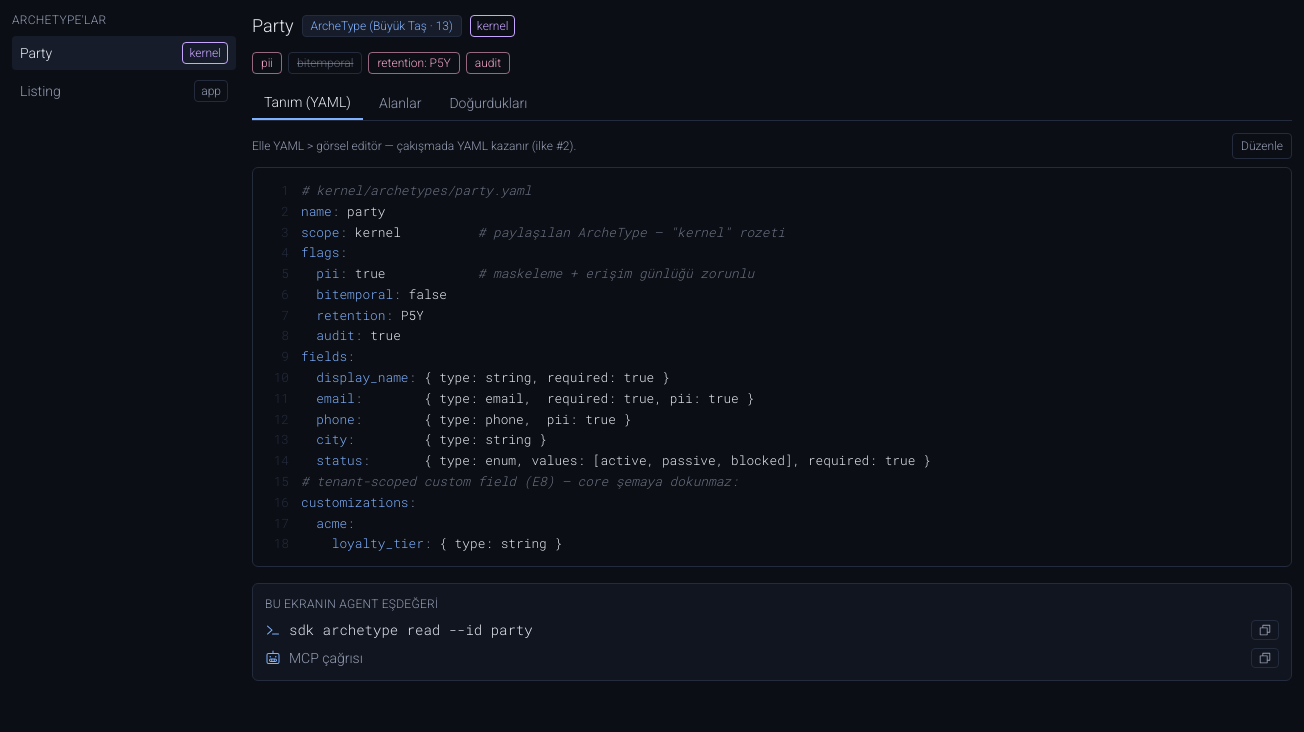
Scenario: ArcheType Studio — Custom Field ekleme (§4-b) › pii bayrağı seçilmeden eklenemez; eklenince tenant-custom rozeti taşır
The image size is (1304, 732).
Click the tab "Alanlar" at (400, 103), box [367,86,433,120]
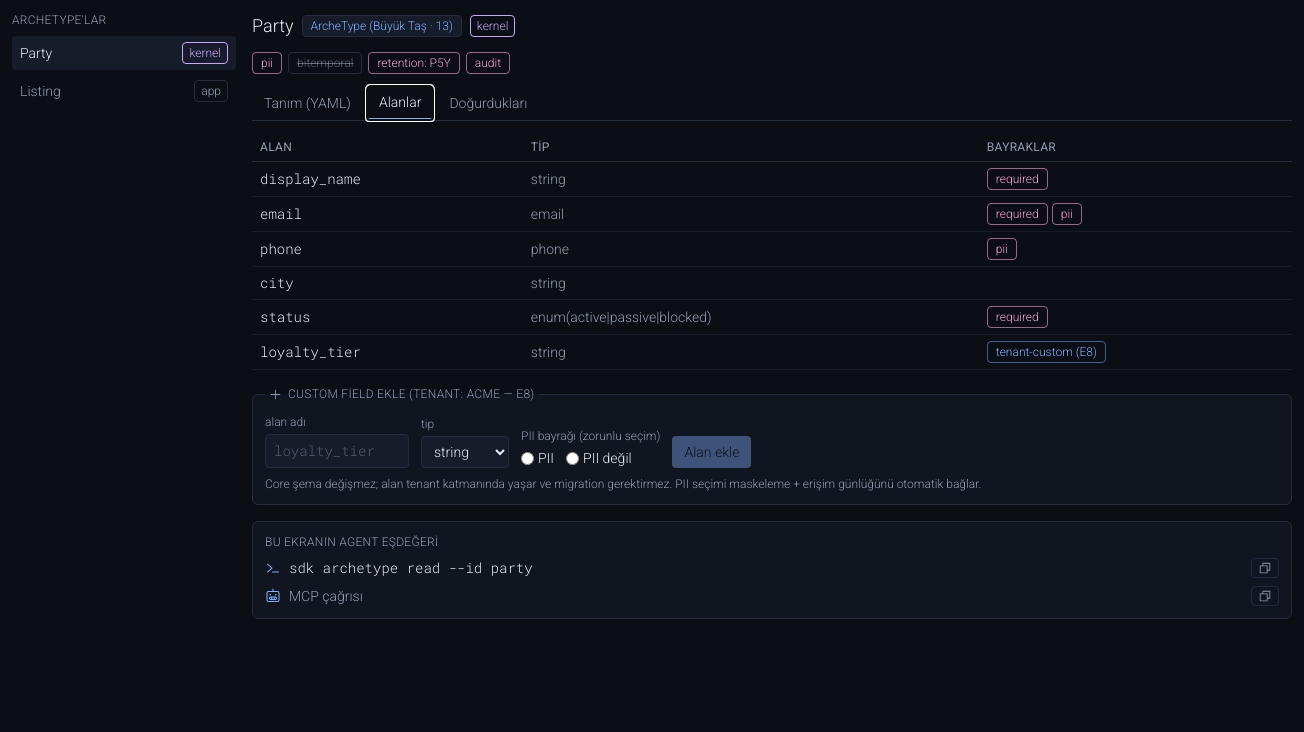
Type "segment" into the field labelled "alan adı" at (337, 451), box [265,434,409,468]
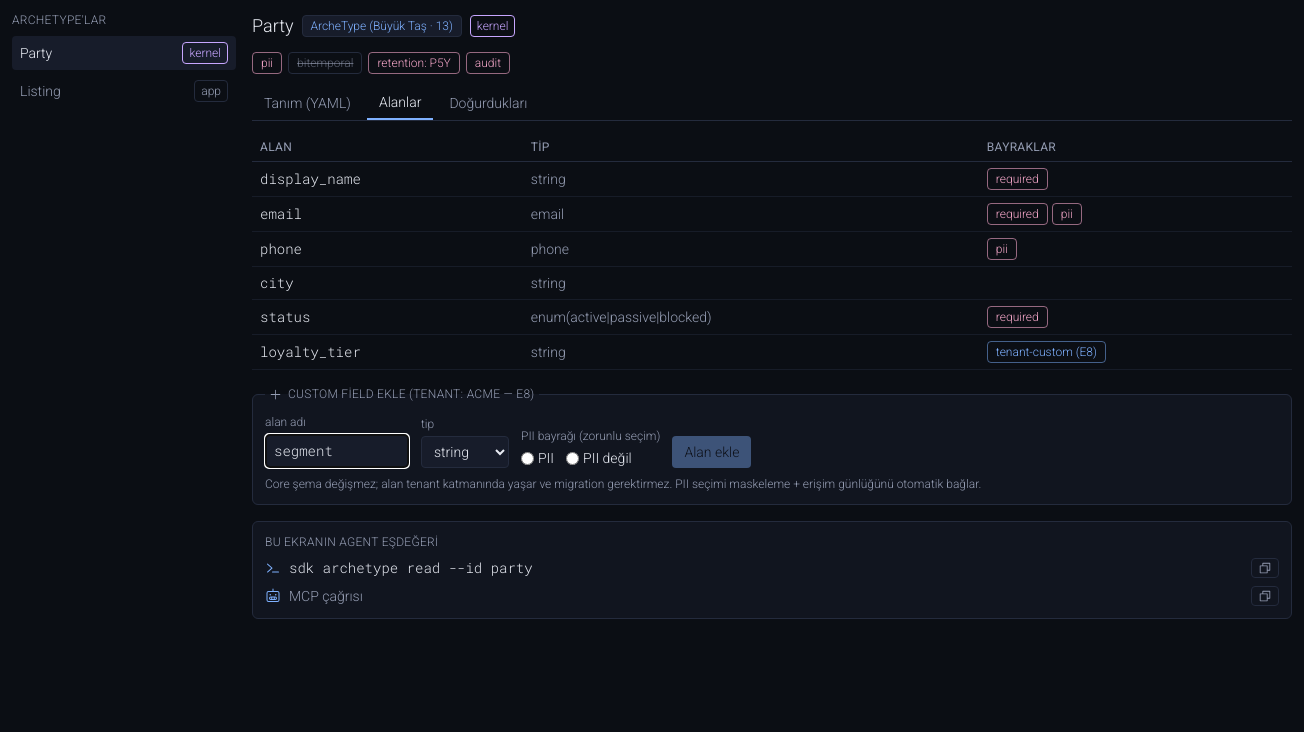
Result: the button "Alan ekle" is disabled at [672,436,751,468]
Click the radio button labelled "PII değil" at (573, 458), box [566,452,579,464]
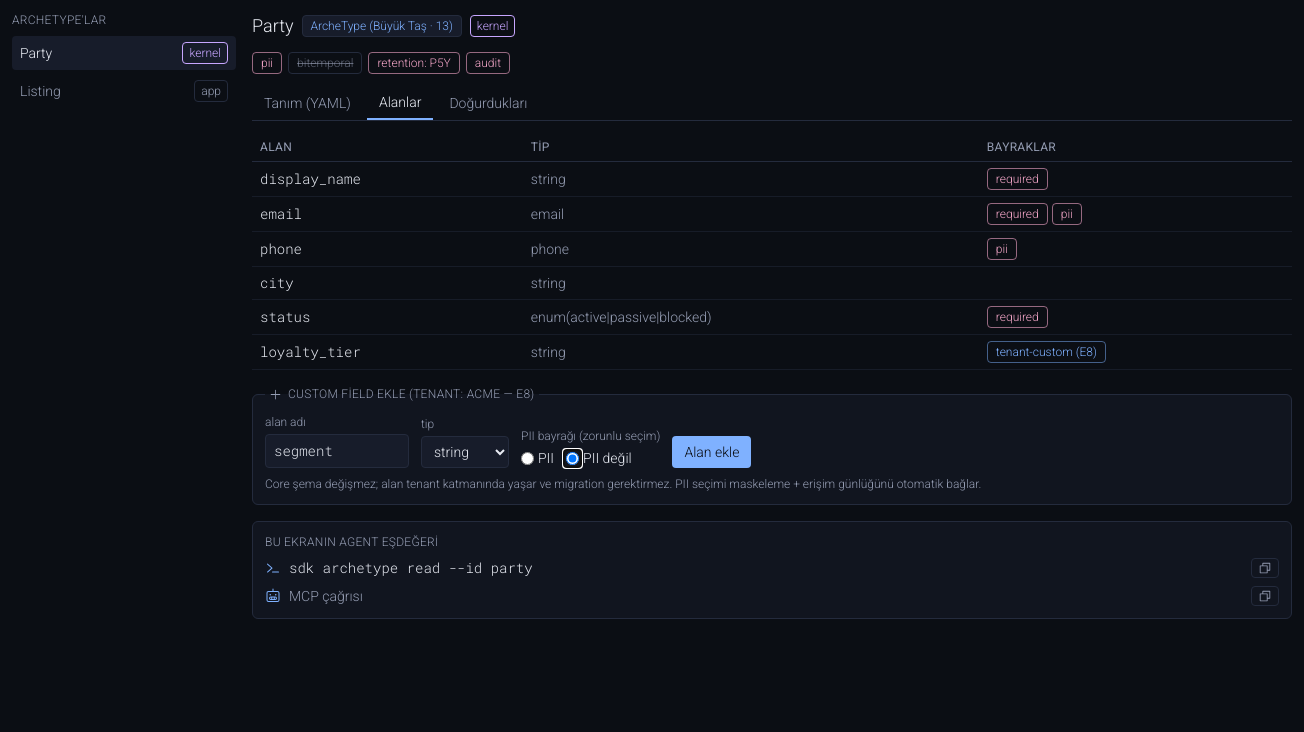
Result: the button "Alan ekle" is enabled
Click the button "Alan ekle" at (712, 452), box [672,436,751,468]
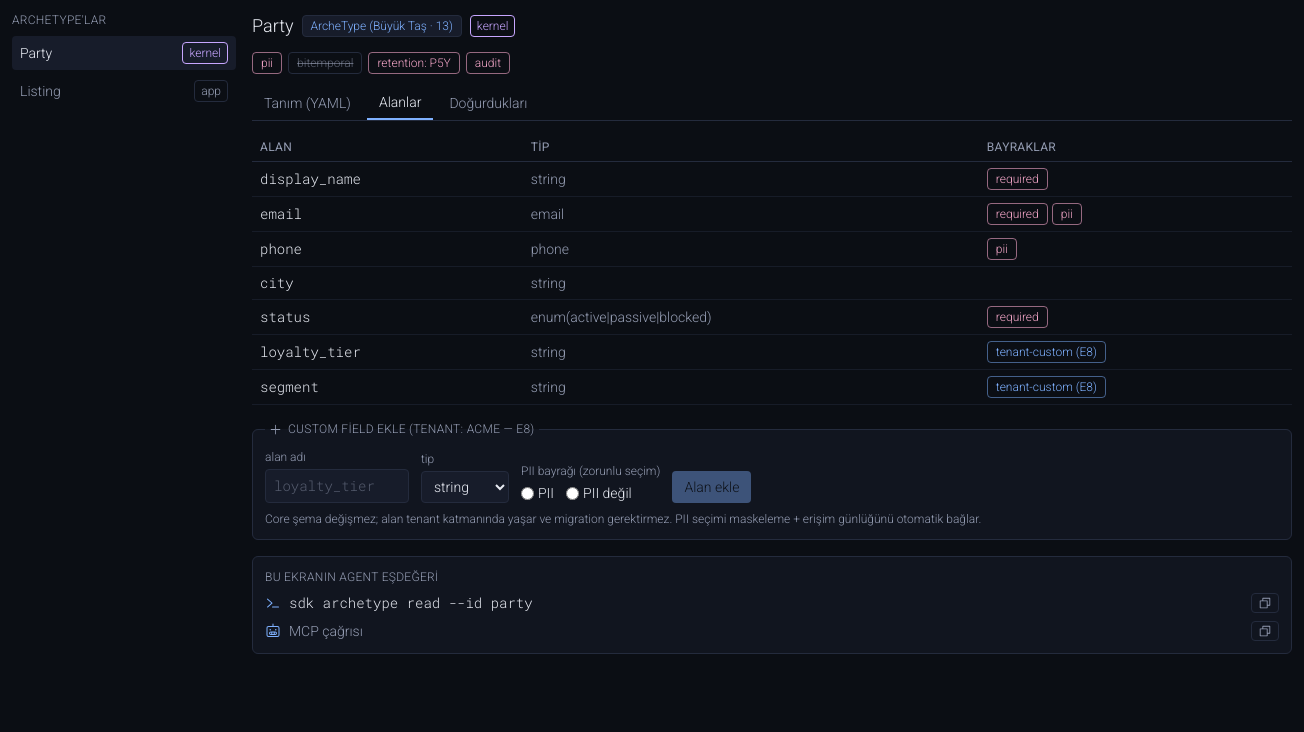
Result: the text "segment" is shown at [252,370,523,404]
